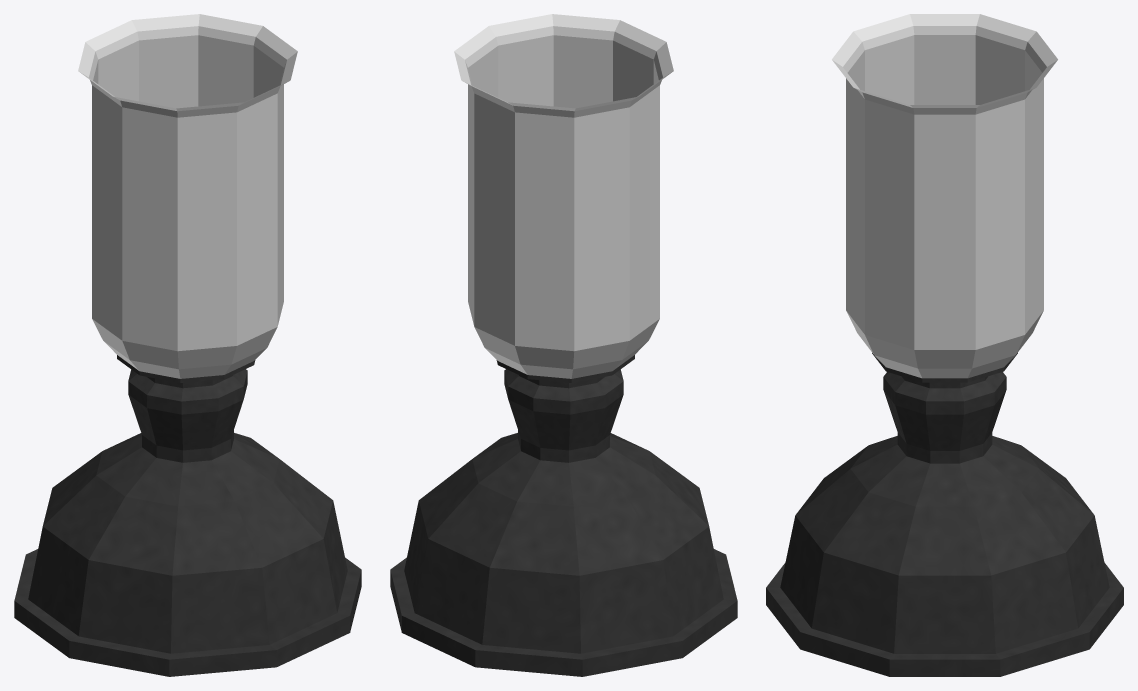
File: Candle_Light.obj
The picture shows the model from 3 angles, left to right: view 1: azimuth 30°, elevation 25°; view 2: azimuth 150°, elevation 25°; view 3: azimuth 270°, elevation 25°; orthographic projection.
Parts seen in each view (by area): view 1: CandleLamp_Cylinder.001, Glass_Cylinder.000; view 2: CandleLamp_Cylinder.001, Glass_Cylinder.000; view 3: CandleLamp_Cylinder.001, Glass_Cylinder.000.
Part boxes in pixels (box(x1,y1,x2,y2)): CandleLamp_Cylinder.001: box(14, 355, 361, 676); Glass_Cylinder.000: box(78, 14, 297, 378); CandleLamp_Cylinder.001: box(390, 355, 737, 676); Glass_Cylinder.000: box(454, 14, 673, 378); CandleLamp_Cylinder.001: box(766, 353, 1123, 676); Glass_Cylinder.000: box(832, 14, 1057, 378).
Size of the model in its own units: 0.5538 by 0.9794 by 0.5822.
Materials: 2 (2 with a texture image).
